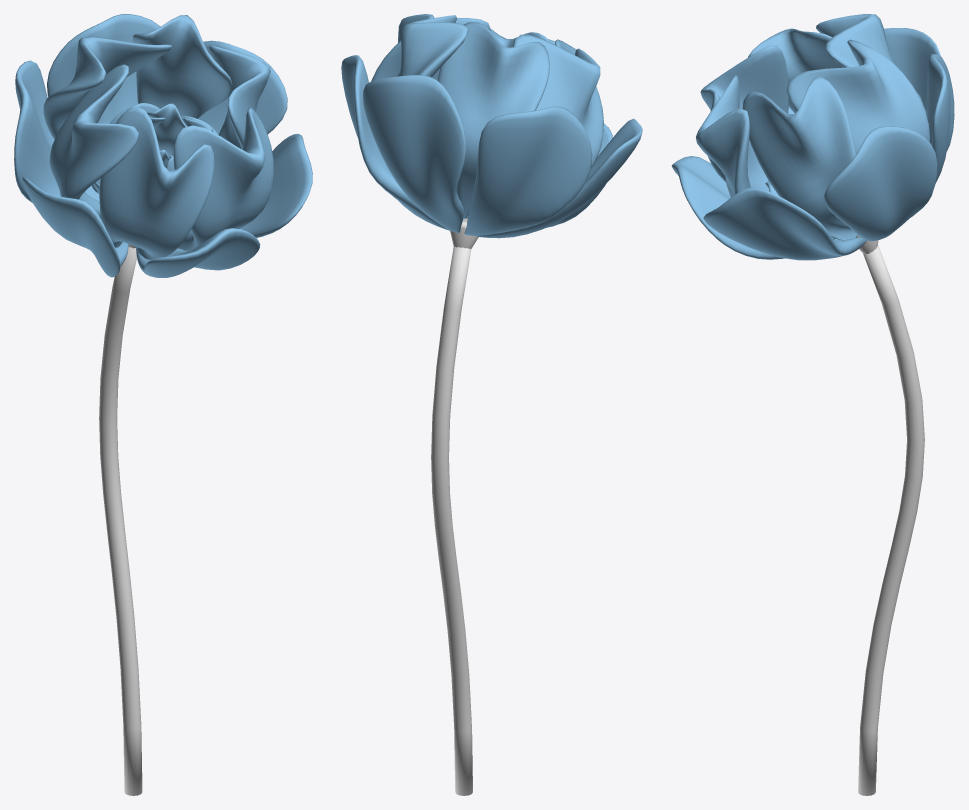
File: floresmale1.fbx
3 views of the same model, side by side, from view 1: azimuth 30°, elevation 25°; view 2: azimuth 150°, elevation 25°; view 3: azimuth 270°, elevation 25° (orthographic).
Visible parts, largest first — view 1: Cube.151, BézierCurve.010, Cube.150, Cube.146, Cube.148, Cube.145, Cube.147, Cube.144, Cube.142, Cube.140, Cube.143, Cube.149 (+2 smaller); view 2: Cube.145, Cube.140, BézierCurve.010, Cube.147, Cube.146, Cube.141, Cube.148, Cube.144, Cube.149; view 3: Cube.149, BézierCurve.010, Cube.141, Cube.148, Cube.142, Cube.151, Cube.150, Cube.143, Cube.147, Cube.140, Cube.146, Cube.145.
Boxes of the visible parts, bbox=[...] form: Cube.151: bbox=[99, 106, 214, 260]; BézierCurve.010: bbox=[99, 247, 142, 795]; Cube.150: bbox=[173, 107, 273, 251]; Cube.146: bbox=[49, 64, 139, 218]; Cube.148: bbox=[133, 15, 232, 118]; Cube.145: bbox=[14, 60, 99, 202]; Cube.147: bbox=[43, 36, 171, 139]; Cube.144: bbox=[22, 177, 128, 277]; Cube.142: bbox=[239, 133, 312, 237]; Cube.140: bbox=[47, 14, 160, 123]; Cube.143: bbox=[136, 228, 260, 277]; Cube.149: bbox=[209, 45, 270, 149]; Cube.145: bbox=[464, 106, 592, 235]; Cube.140: bbox=[363, 75, 465, 232]; BézierCurve.010: bbox=[431, 246, 472, 795]; Cube.147: bbox=[437, 22, 549, 219]; Cube.146: bbox=[513, 34, 603, 167]; Cube.141: bbox=[341, 55, 450, 230]; Cube.148: bbox=[397, 15, 468, 77]; Cube.144: bbox=[477, 118, 642, 238]; Cube.149: bbox=[371, 14, 490, 80]; Cube.149: bbox=[742, 77, 858, 240]; BézierCurve.010: bbox=[858, 244, 924, 795]; Cube.141: bbox=[824, 126, 937, 241]; Cube.148: bbox=[786, 39, 929, 153]; Cube.142: bbox=[703, 187, 866, 260]; Cube.151: bbox=[700, 45, 788, 191]; Cube.150: bbox=[696, 75, 836, 239]; Cube.143: bbox=[671, 156, 840, 259]; Cube.147: bbox=[816, 14, 926, 113]; Cube.140: bbox=[927, 54, 954, 183]; Cube.146: bbox=[748, 28, 843, 113]; Cube.145: bbox=[884, 28, 940, 117].
Size of the model in its own units: 26.85 by 72.18 by 24.43.
